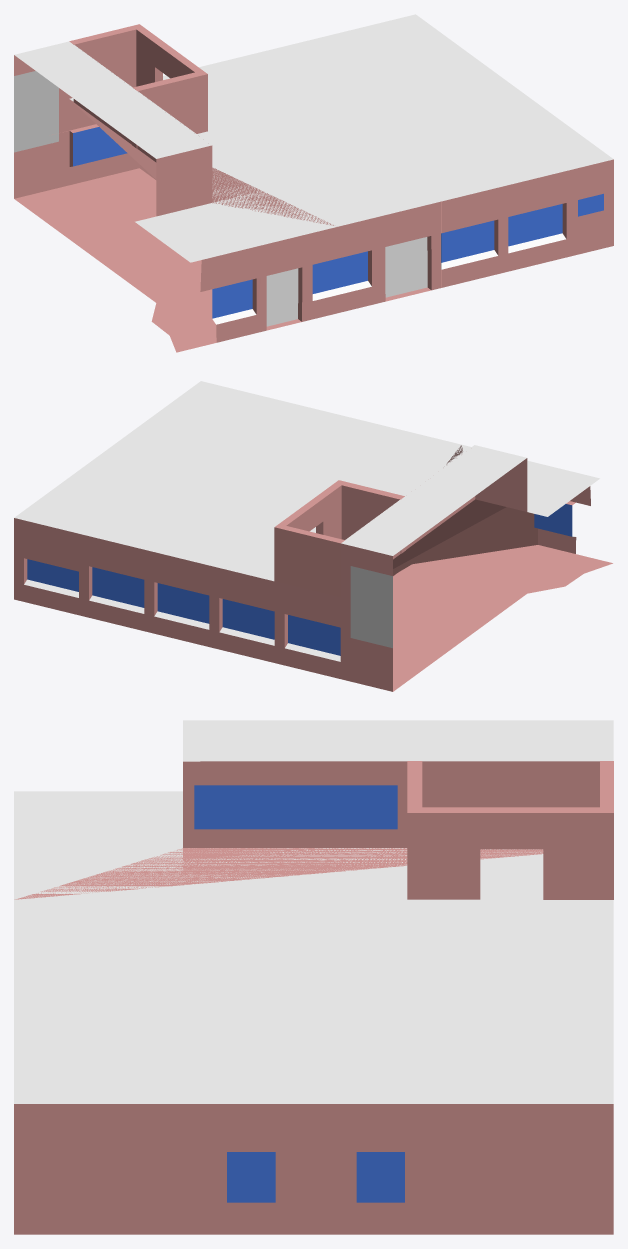
File: kentikusetubi.glb
3 renders of one model, top to bottom at view 1: azimuth 30°, elevation 25°; view 2: azimuth 150°, elevation 25°; view 3: azimuth 270°, elevation 25°, orthographic. The views are drawn at different scales.
Visible parts, largest first — view 1: 手前; view 2: 手前; view 3: 手前.
Boxes of the visible parts, bbox=[...] form: 手前: bbox=[14, 14, 613, 352]; 手前: bbox=[14, 381, 612, 691]; 手前: bbox=[14, 720, 613, 1234].
Bounding box in the file's own units: 8.74 × 2.75 × 6.86.
1 material, 1 textured.
